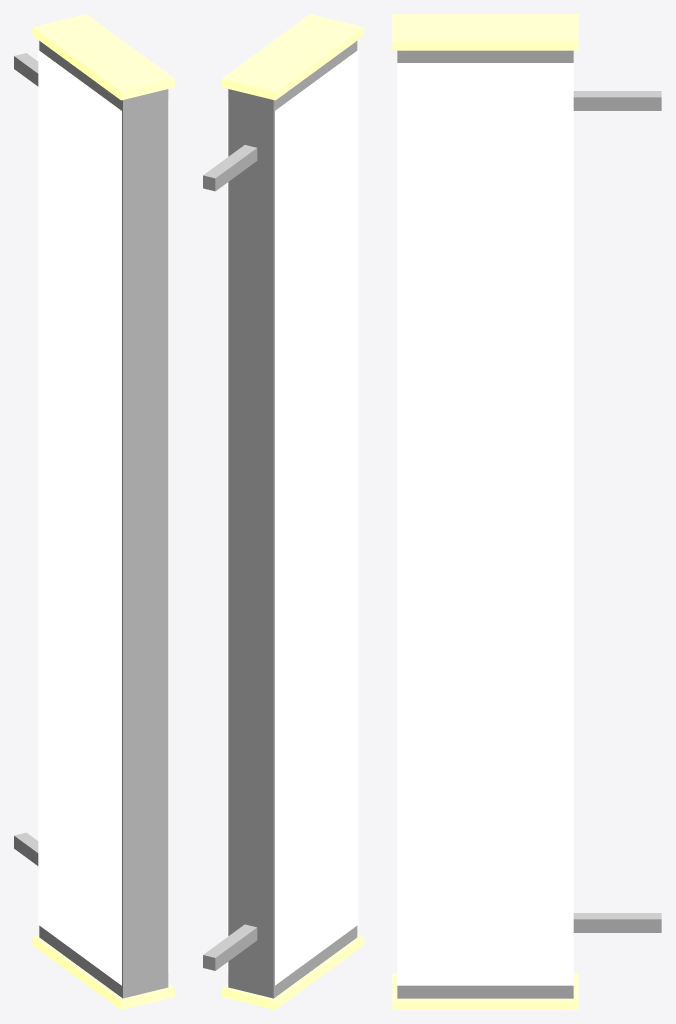
Rendered from OCK_Prop_BladeSign_C.fbx.
3 renders of one model, left to right at view 1: azimuth 30°, elevation 25°; view 2: azimuth 150°, elevation 25°; view 3: azimuth 270°, elevation 25°, orthographic. The views are drawn at different scales.
Parts seen in each view (by area): view 1: OCK_Prop_BladeSign_C; view 2: OCK_Prop_BladeSign_C; view 3: OCK_Prop_BladeSign_C.
Boxes of the visible parts, x1,y1,x2,y2 form: OCK_Prop_BladeSign_C: (14, 14, 174, 1009); OCK_Prop_BladeSign_C: (203, 14, 363, 1009); OCK_Prop_BladeSign_C: (392, 14, 661, 1009).
Size of the model in its own units: 26 by 424 by 107.
